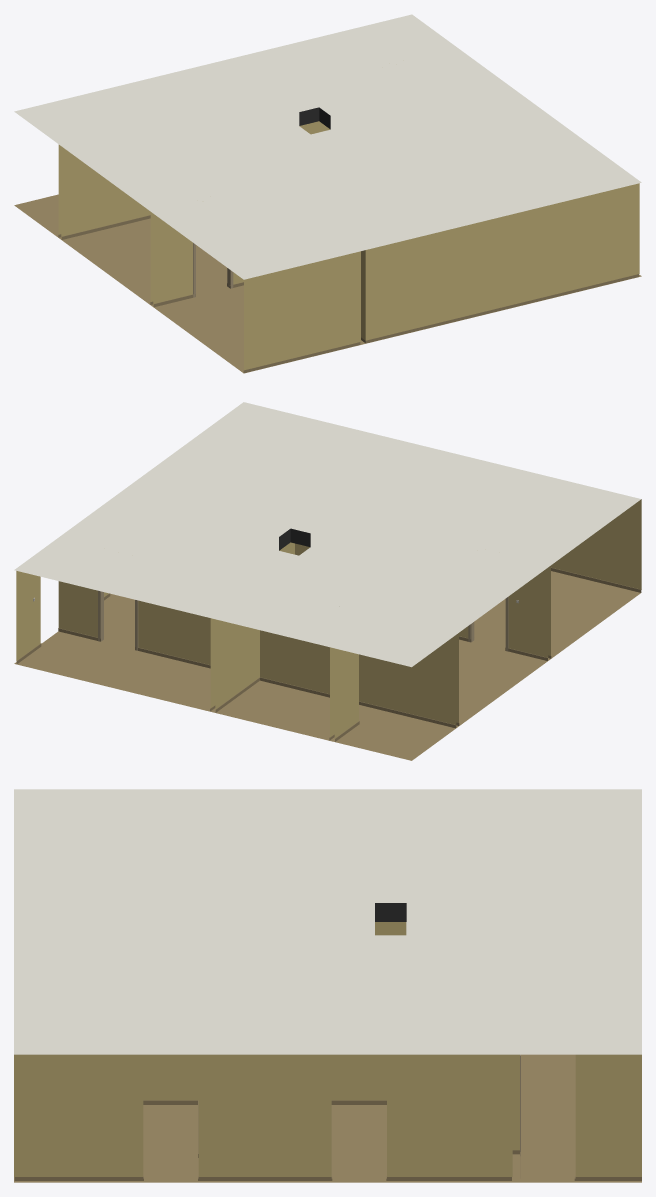
The model's file is chunk_3_5.glb.
3 renders of one model, top to bottom at view 1: azimuth 30°, elevation 25°; view 2: azimuth 150°, elevation 25°; view 3: azimuth 270°, elevation 25°, orthographic. The views are drawn at different scales.
Parts seen in each view (by area): view 1: chunk_3_5; view 2: chunk_3_5; view 3: chunk_3_5.
Boxes of the visible parts, <box> form: chunk_3_5: <box>14,14,641,373</box>; chunk_3_5: <box>14,402,641,760</box>; chunk_3_5: <box>14,789,641,1182</box>.
Size of the model in its own units: 12.03 by 3.1 by 12.
